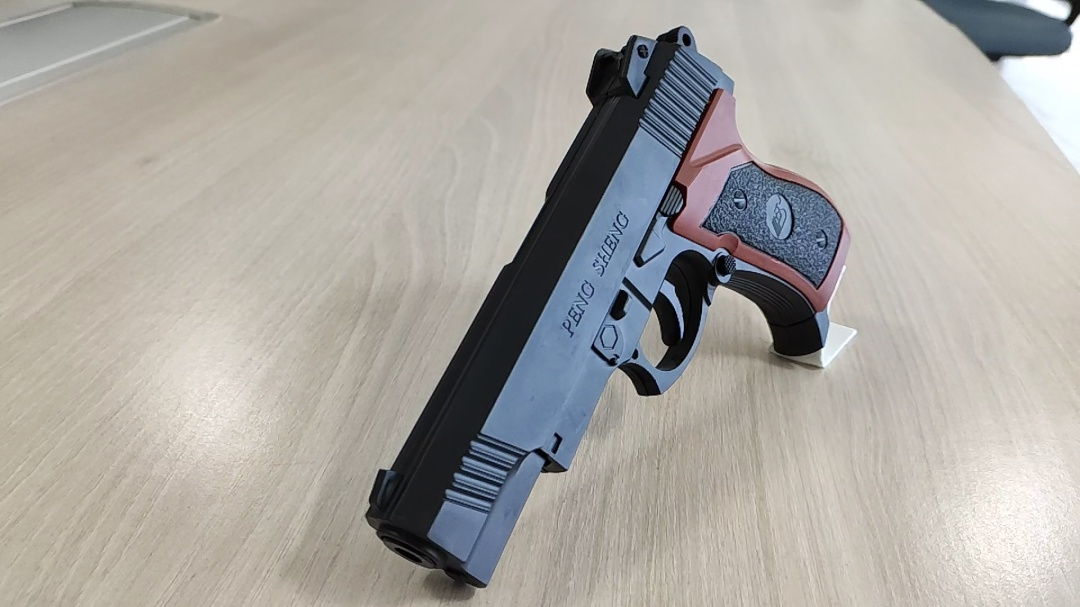gun: (421, 194, 455, 219)
